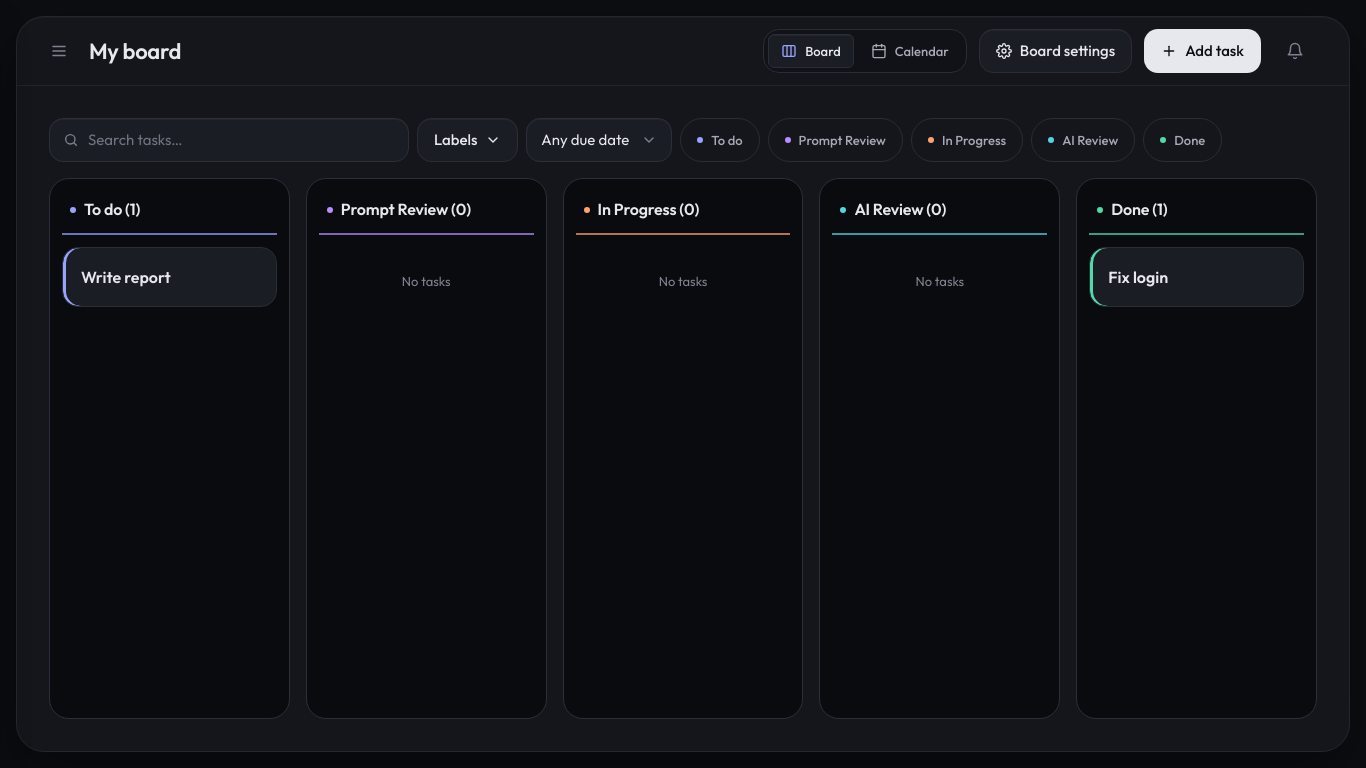
Test: App › logs out from the menu and empties the board
The width and height of the screenshot is (1366, 768).
Expected: the button "Write report" is shown, [81,266,171,288]
Click the button named "Open menu".
click(59, 51)  # box [37,29,81,73]
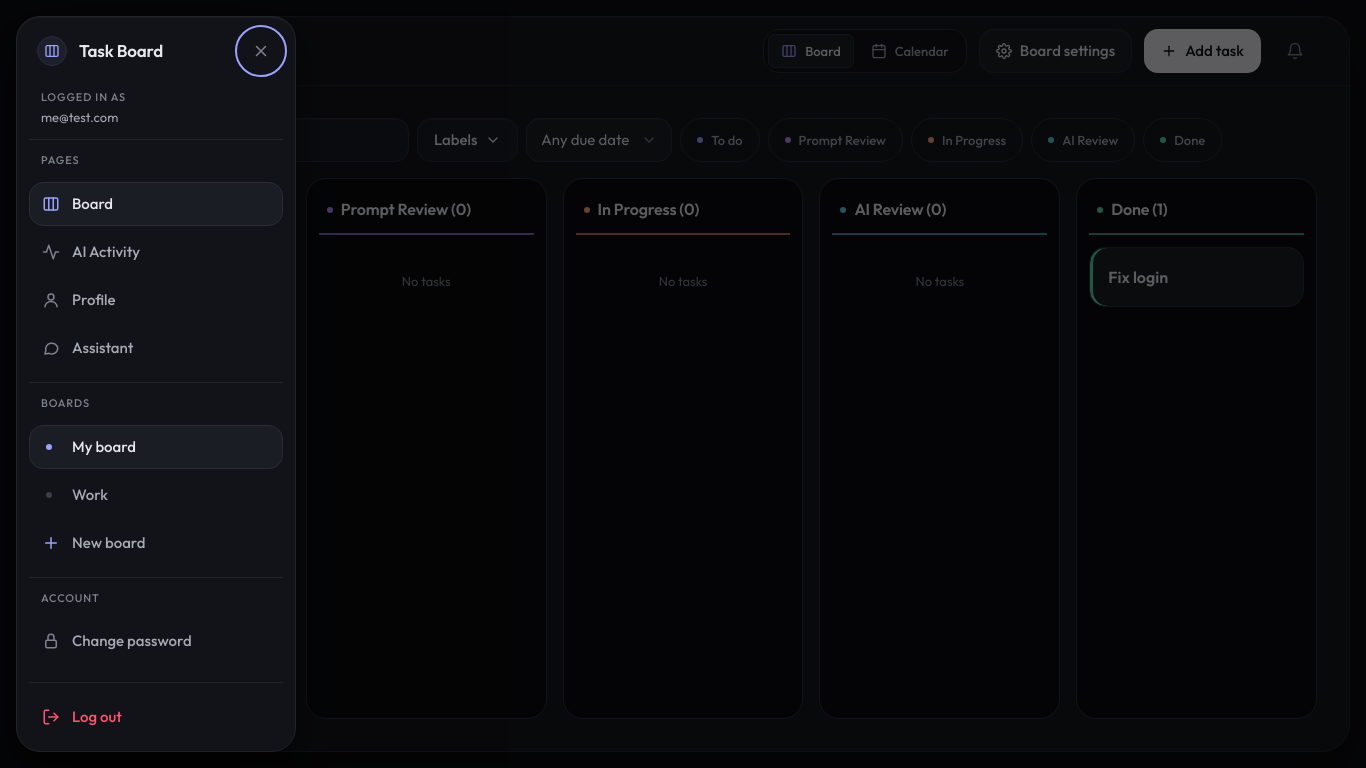
Click the button "Log out".
click(156, 717)  # box [29,695,283,739]
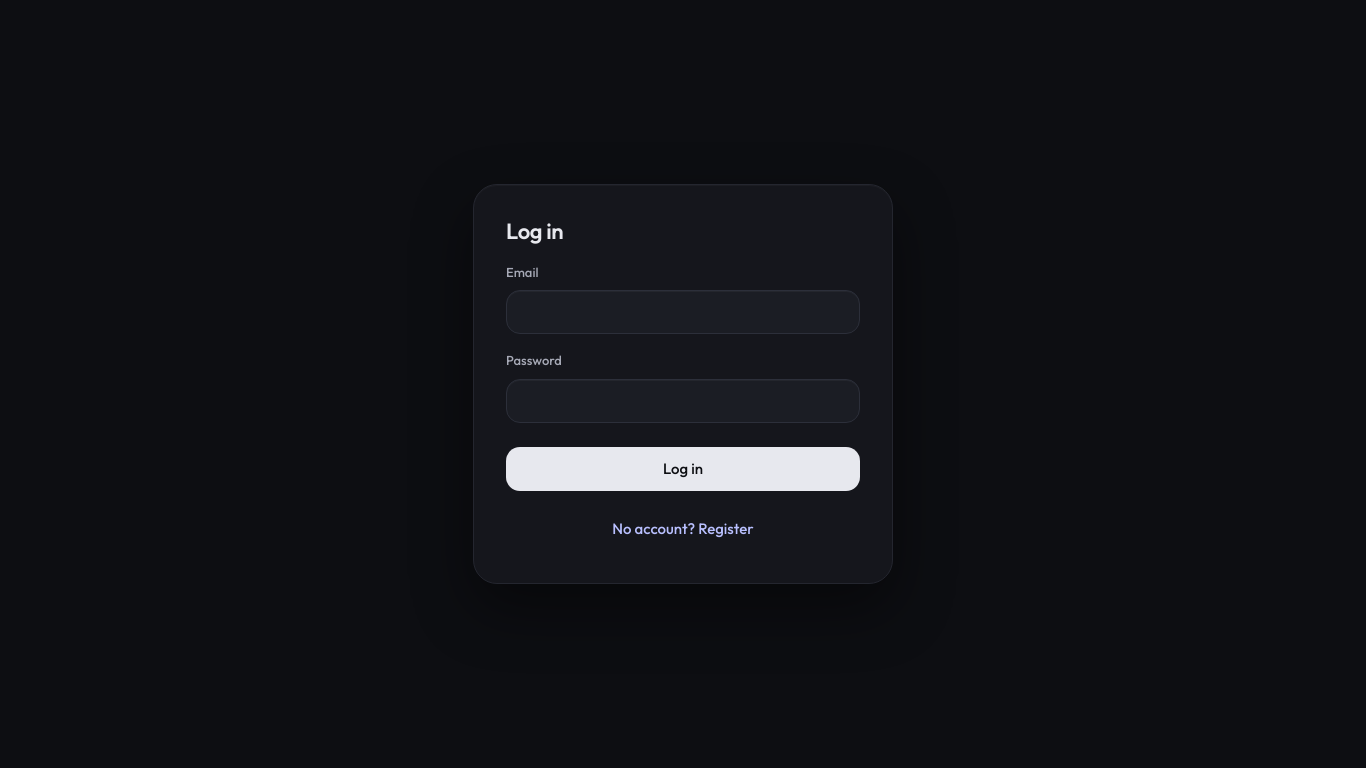
Expected: the button "Write report" is not shown
Result: the heading "Log in" is shown at [506,217,563,245]
